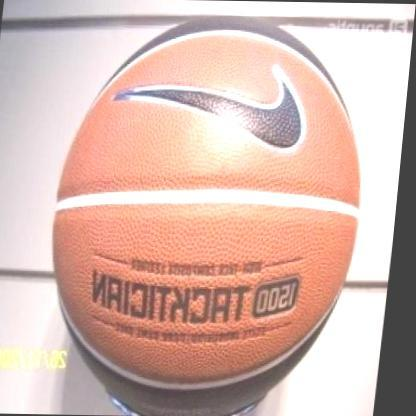basketball: (21, 7, 386, 416)
